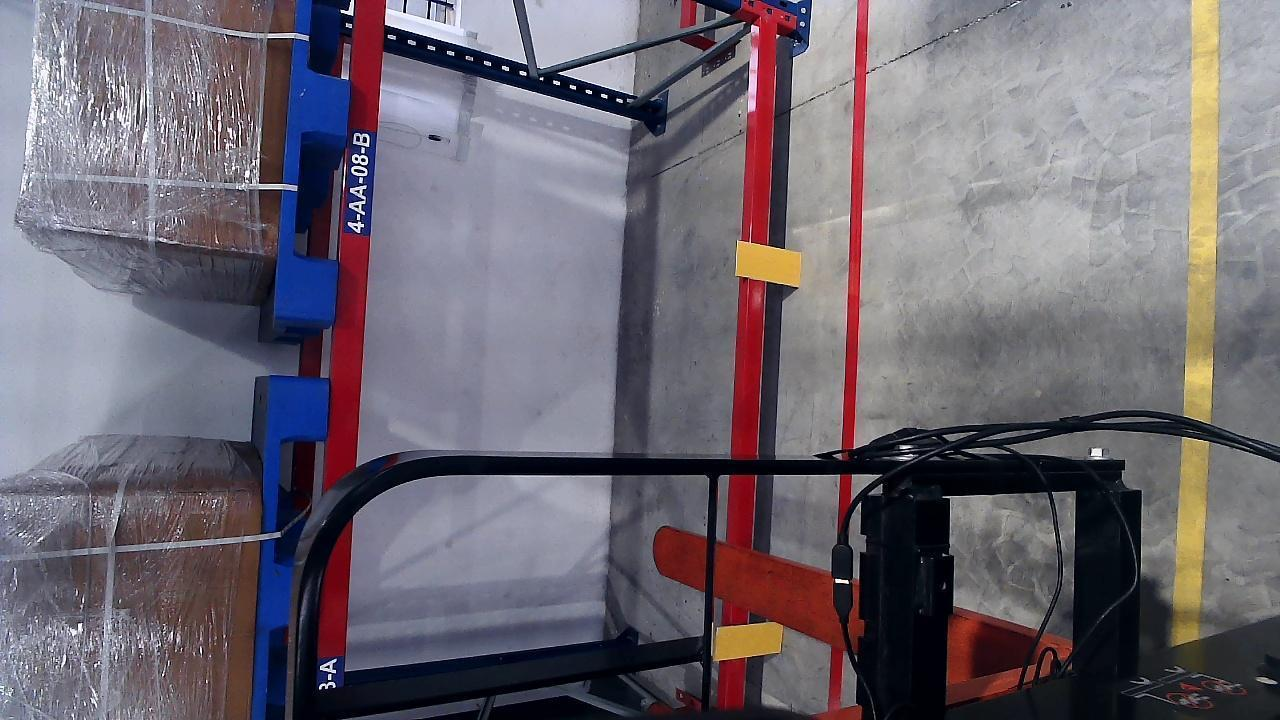red_line: (840, 5, 869, 451)
yellow_line: (1181, 0, 1221, 422)
